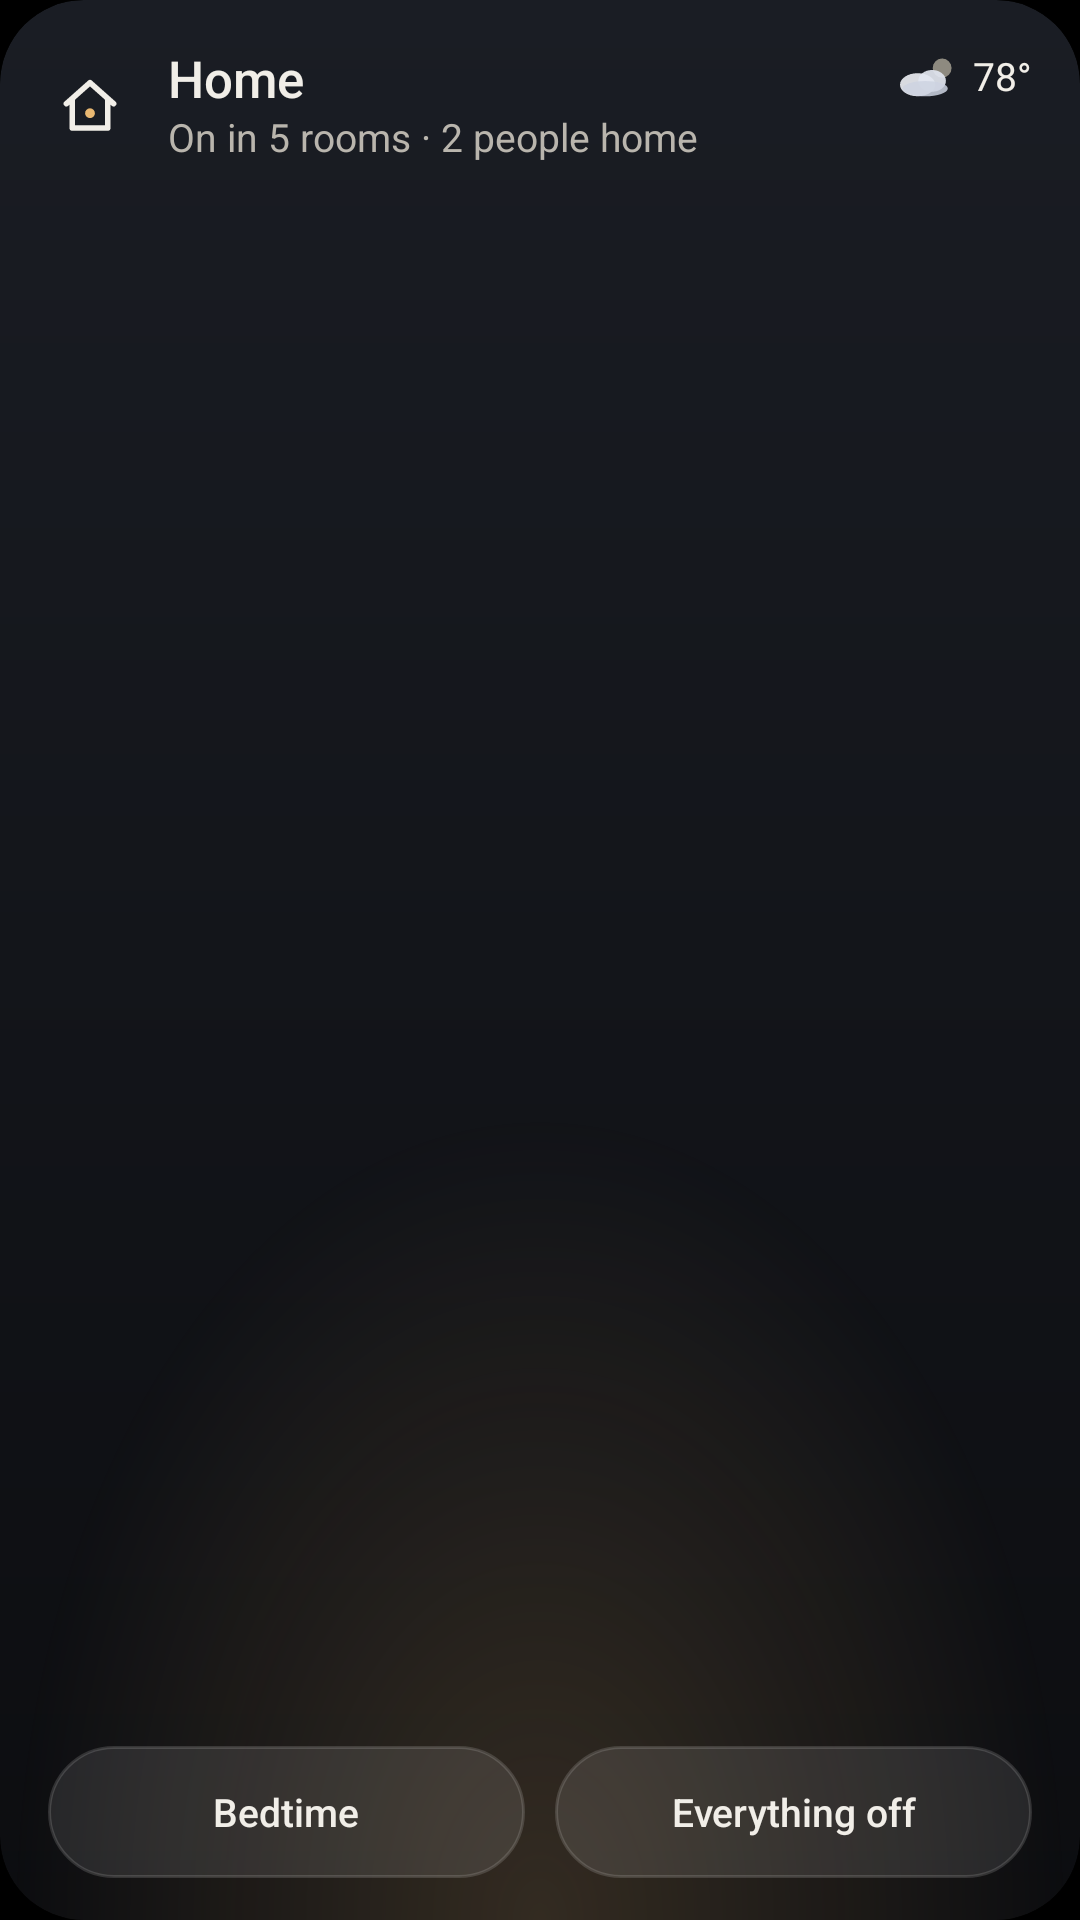

Named icons in this screenshot (1080*1920) and their bounding boxes, (x1, y1, x2, y2):
House: (63, 79, 117, 131)
sky partly: (900, 58, 952, 97)
